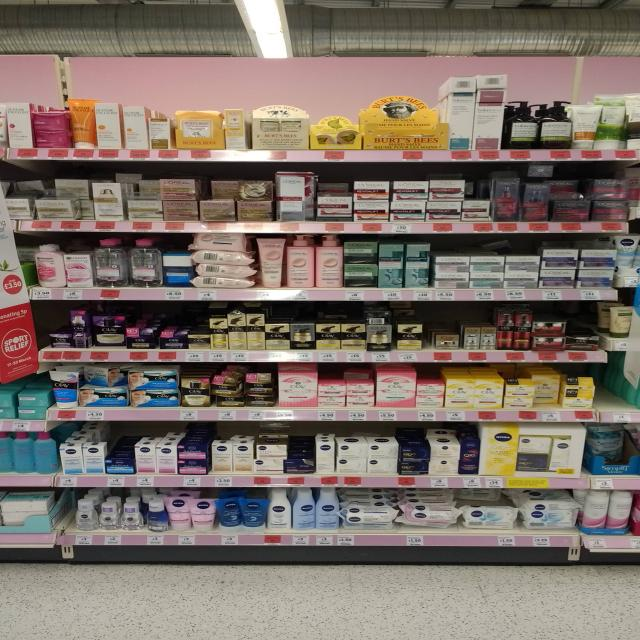100- O.O.S: (597, 390, 634, 422)
